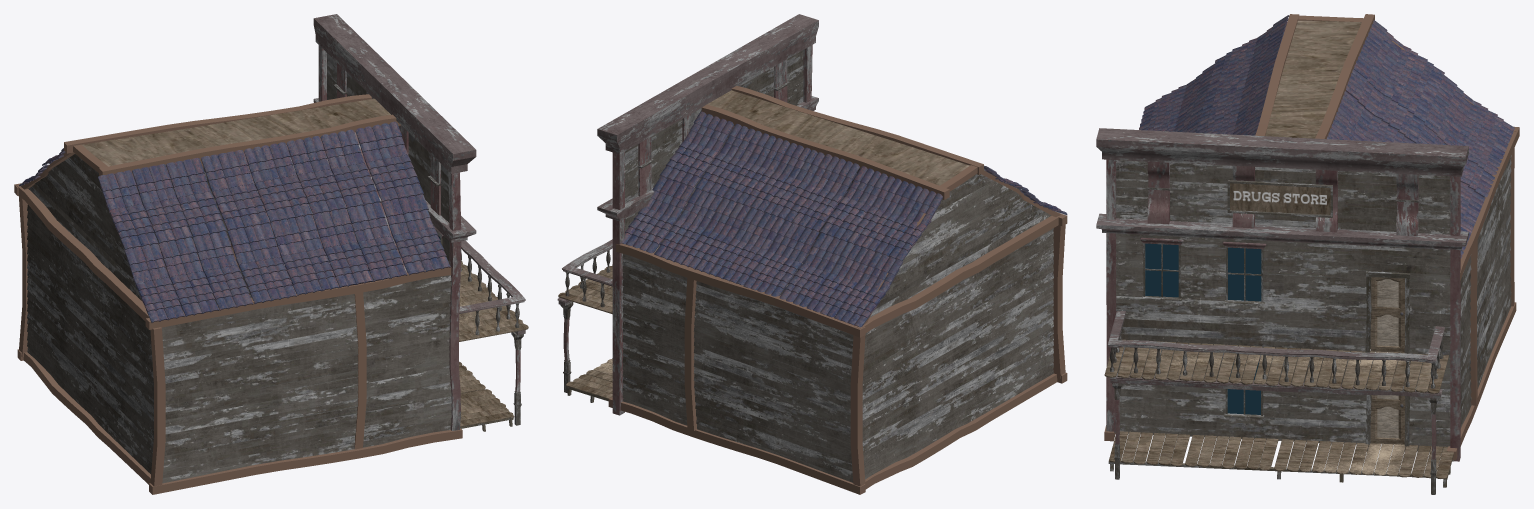
Rendered from Drugs Store.fbx.
The picture shows the model from 3 angles, left to right: view 1: azimuth 30°, elevation 25°; view 2: azimuth 150°, elevation 25°; view 3: azimuth 270°, elevation 25°; orthographic projection. The views are drawn at different scales.
Parts seen in each view (by area): view 1: Western:pCube1628; view 2: Western:pCube1628; view 3: Western:pCube1628.
Part boxes in pixels (x1=…): Western:pCube1628: x1=14, y1=14, x2=528, y2=494; Western:pCube1628: x1=557, y1=14, x2=1067, y2=494; Western:pCube1628: x1=1096, y1=14, x2=1519, y2=494.
Size of the model in its own units: 1378 by 990 by 1216.
